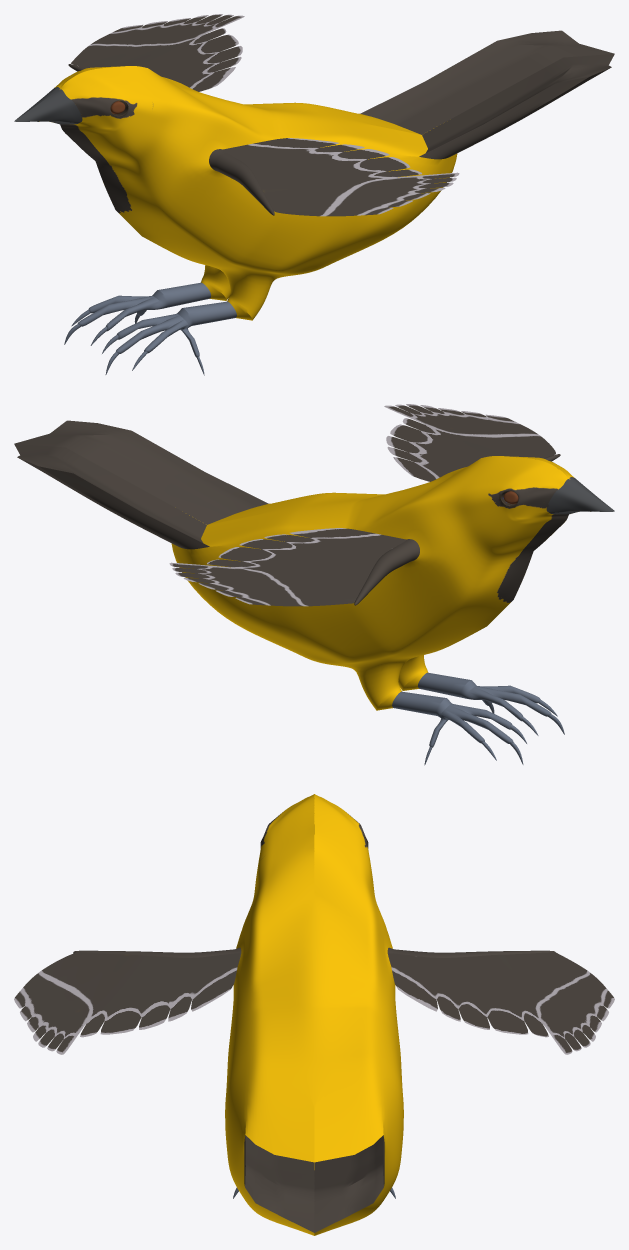
Rendered from Turpial.fbx.
3 renders of one model, top to bottom at view 1: azimuth 30°, elevation 25°; view 2: azimuth 150°, elevation 25°; view 3: azimuth 270°, elevation 25°, orthographic. The views are drawn at different scales.
Parts seen in each view (by area): view 1: Cube; view 2: Cube; view 3: Cube.
Part boxes in pixels (x1,y1,x2,y2): Cube: (14,14,614,375); Cube: (14,404,614,765); Cube: (14,794,614,1235).
Size of the model in its own units: 579 by 276 by 427.
1 material, 1 textured.
